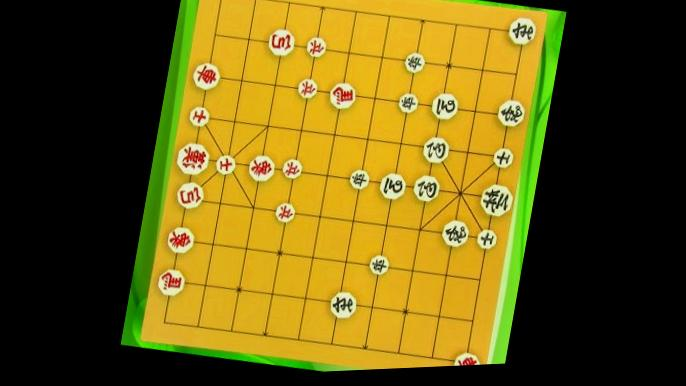cha_green: (327, 289, 357, 320), (509, 16, 538, 47)
cha_red: (191, 60, 220, 92), (449, 349, 482, 366)
jol_green: (395, 89, 420, 115), (366, 252, 391, 278), (401, 49, 425, 76), (348, 167, 371, 193)
jol_red: (280, 155, 303, 182), (304, 34, 326, 60), (274, 199, 295, 225), (297, 76, 318, 101)
ma_green: (377, 169, 406, 202), (431, 91, 459, 122)
ma_red: (157, 266, 186, 299), (327, 79, 356, 112)
po_green: (421, 134, 448, 165), (413, 172, 439, 204)
po_red: (266, 26, 294, 60), (175, 178, 203, 211)
sa_green: (475, 226, 499, 252), (492, 146, 515, 171)
sa_red: (214, 151, 237, 178), (188, 103, 211, 129)
sang_green: (439, 217, 470, 250), (496, 96, 524, 129)
sang_red: (165, 224, 195, 257), (247, 152, 276, 185)
wang_green: (479, 180, 515, 220)
wang_red: (176, 140, 211, 178)
